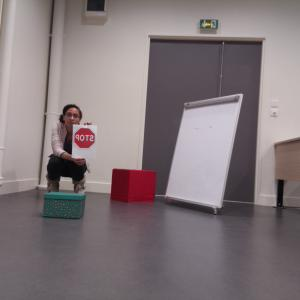stop: (74, 127, 96, 150)
